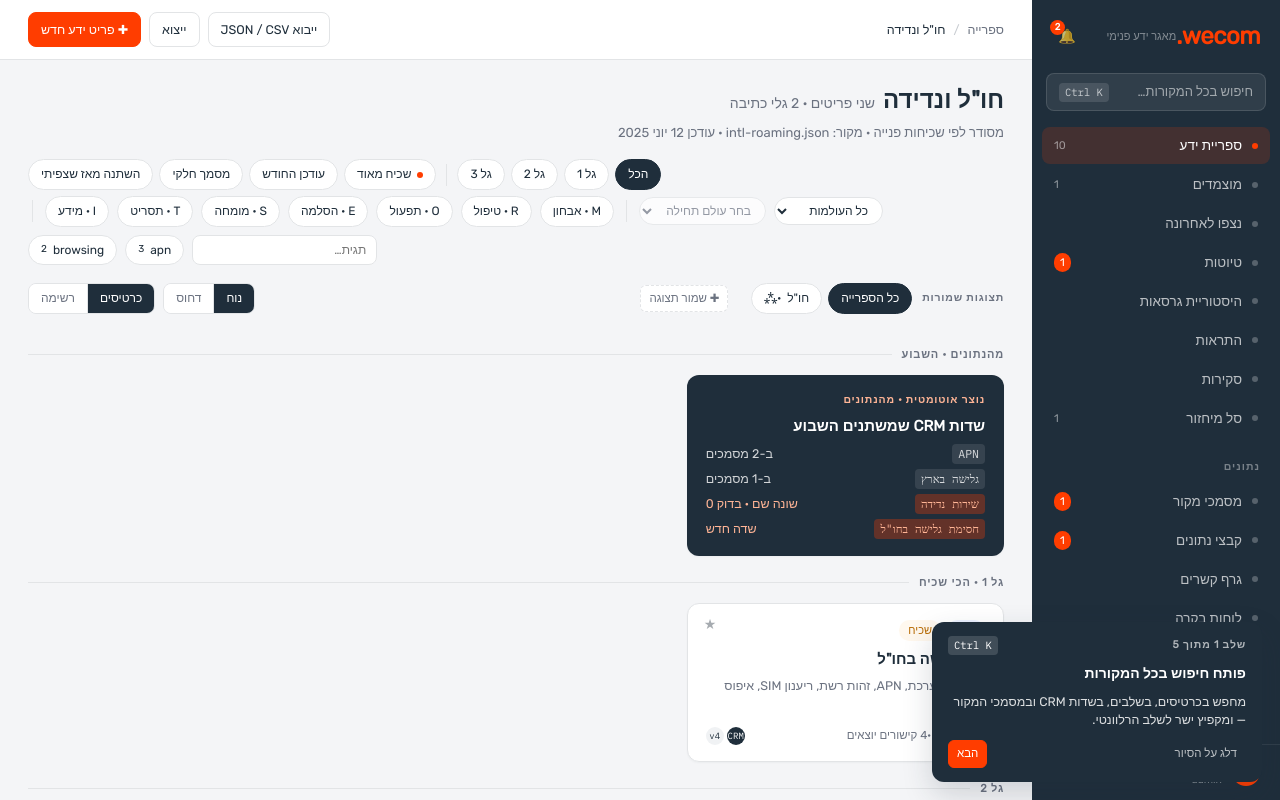
Scenario: <LibraryPage> › filters by facet and category
The image size is (1280, 800).
Expected: the heading "חו\"ל ונדידה" is shown, [730, 86, 1004, 114]
Expected: the text "אין גלישה בחו\"ל" is shown, [877, 650, 985, 668]
What coordinates should you click on to do the following:
click the button "גל 2"
I would click on:
 (534, 175)
Its box is [511, 159, 558, 190].
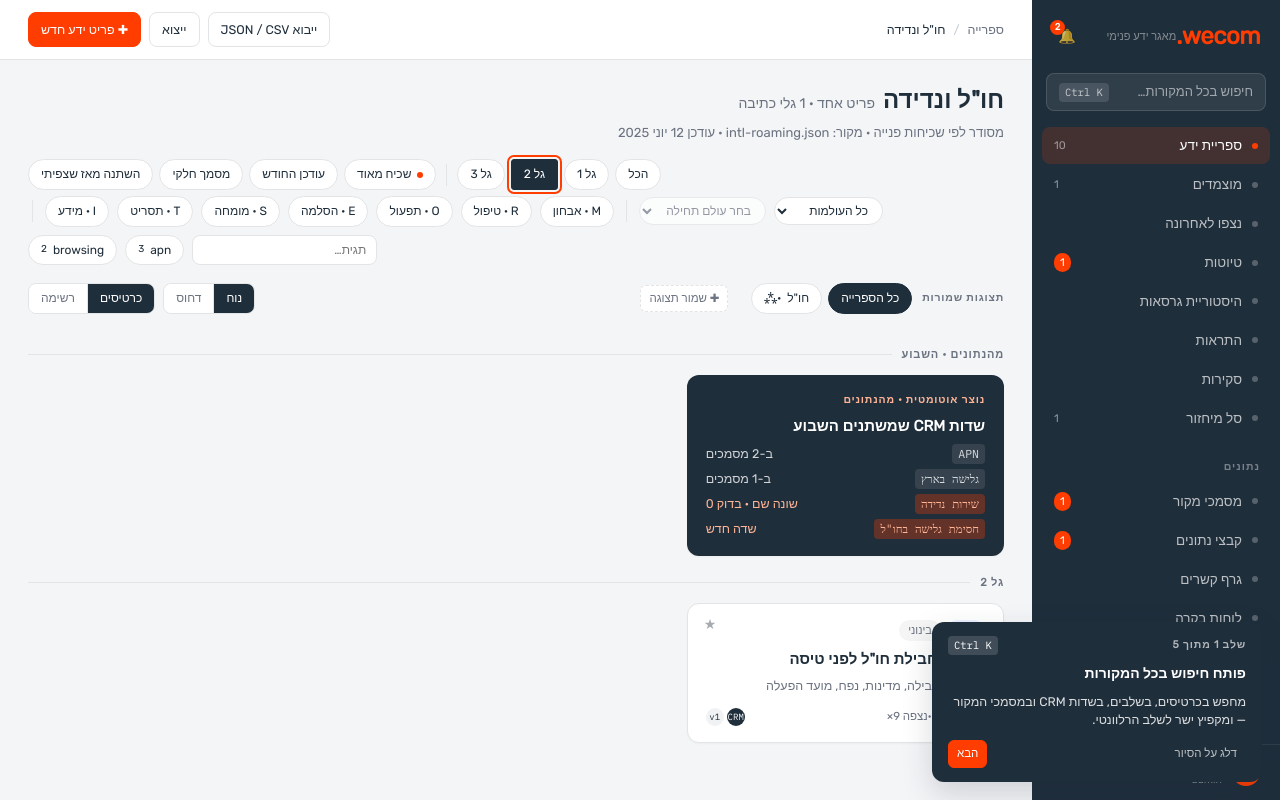
Expected: the button "אין גלישה בחו\"ל" is gone
Expected: the text "רכישת חבילת חו\"ל לפני טיסה" is shown, [790, 650, 985, 668]
